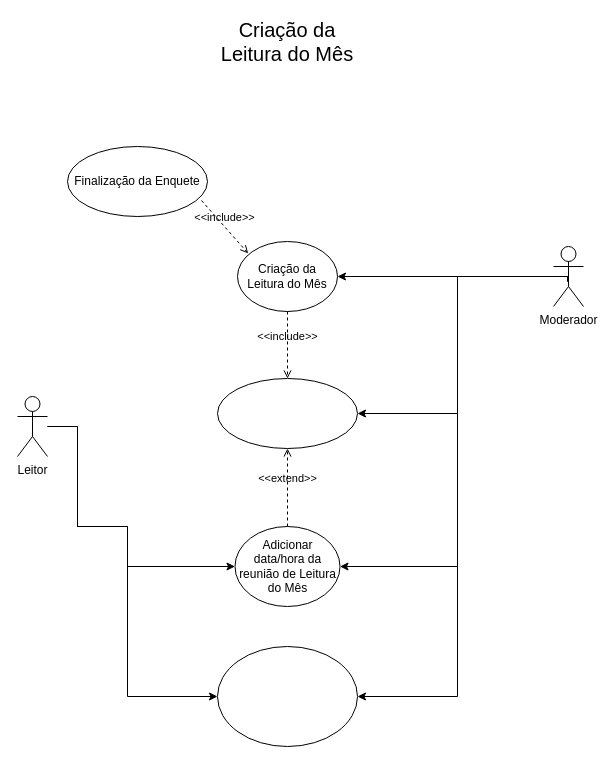
This 615x764 diagram has some shape labels left out. The shapes that lost their labels are listed below. From the top down, each one's box as (x1, y1, x2, y2) in pixels, then its label:
(216, 378, 358, 448): Adicionar informações sobre o Livro
(216, 646, 358, 746): Adicionar referências, observações, curiosidades, alusões, etc.
